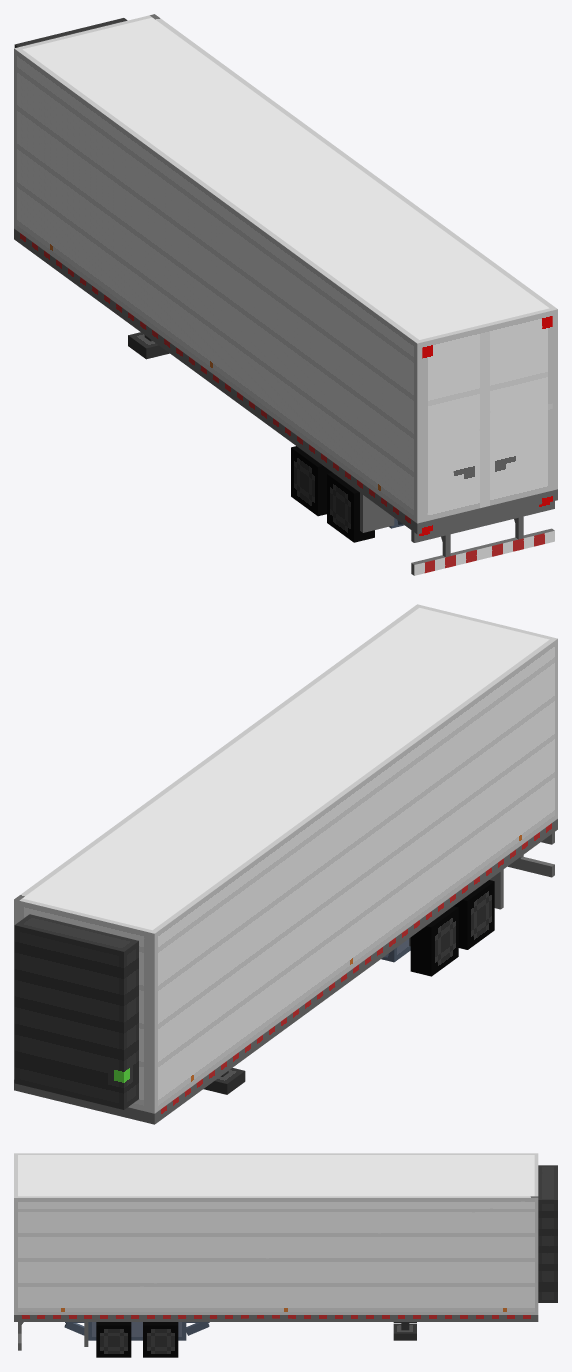
Rendered from refrigerated_trailer_custom_model.glb.
3 views of the same model, one above another, from view 1: azimuth 30°, elevation 25°; view 2: azimuth 150°, elevation 25°; view 3: azimuth 270°, elevation 25° (orthographic). The views are drawn at different scales.
Parts seen in each view (by area): view 1: cube_1, cube_8, cube_4, cube_0, cube_2, cube_20, cube_7, cube_29, cube_19, cube_31; view 2: cube_1, cube_8, cube_9, cube_0, cube_3, cube_2, cube_7, cube_29, cube_28; view 3: cube_2, cube_8, cube_0, cube_9, cube_5, cube_6, cube_1, cube_12, cube_27.
Part boxes in pixels (x1,y1,x2,y2): cube_1: (14, 47, 422, 523); cube_8: (22, 17, 549, 339); cube_4: (420, 308, 552, 522); cube_0: (14, 228, 557, 534); cube_2: (150, 14, 557, 490); cube_20: (411, 528, 554, 575); cube_7: (291, 446, 332, 516); cube_29: (327, 472, 374, 542); cube_19: (411, 501, 554, 542); cube_31: (360, 493, 394, 532); cube_1: (149, 637, 557, 1113); cube_8: (22, 608, 549, 930); cube_9: (14, 914, 138, 1109); cube_0: (14, 819, 557, 1124); cube_3: (19, 898, 151, 1112); cube_2: (14, 604, 421, 1079); cube_7: (410, 906, 458, 976); cube_29: (453, 880, 494, 949); cube_28: (203, 1068, 245, 1094); cube_2: (14, 1196, 538, 1314); cube_8: (18, 1155, 534, 1196); cube_0: (14, 1315, 538, 1321); cube_9: (538, 1165, 557, 1302); cube_5: (143, 1322, 178, 1357); cube_6: (96, 1322, 131, 1357); cube_1: (14, 1153, 538, 1154); cube_12: (88, 1322, 186, 1340); cube_27: (393, 1323, 416, 1340).
Bounding box in the file's own units: 1.69 × 2.81 × 8.69.
1 material, 1 textured.
